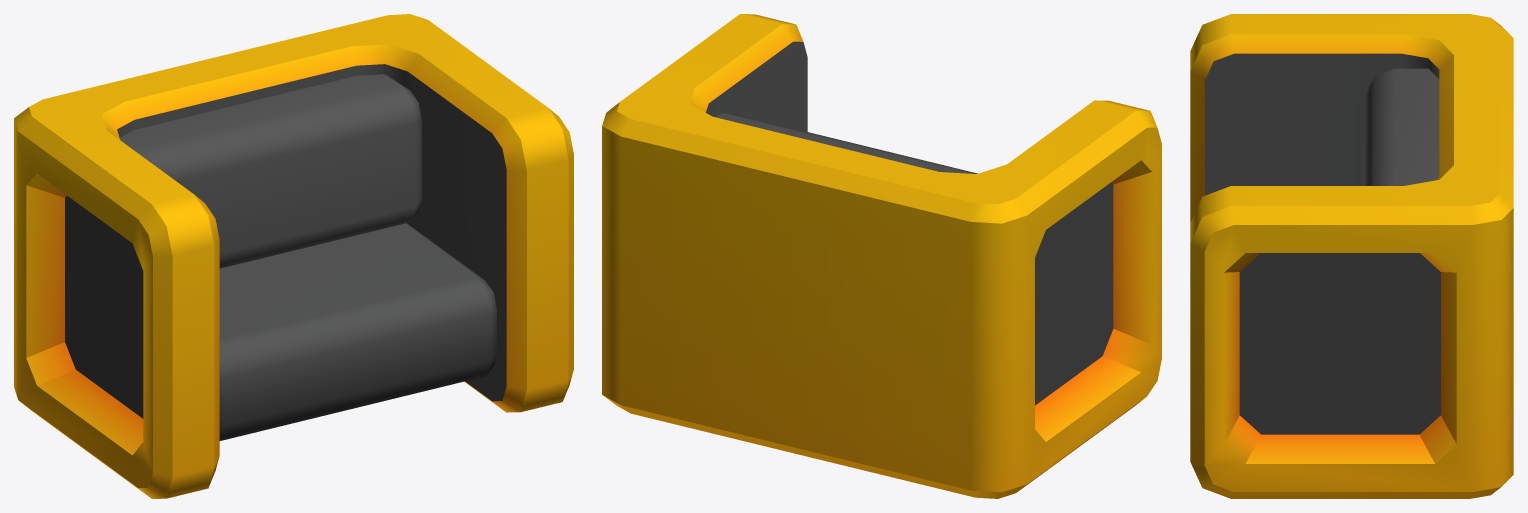
Rendered from Mini_sofa_009.fbx.
3 views of the same model, side by side, from view 1: azimuth 30°, elevation 25°; view 2: azimuth 150°, elevation 25°; view 3: azimuth 270°, elevation 25° (orthographic).
Visible parts, largest first — view 1: Mini_sofa_009; view 2: Mini_sofa_009; view 3: Mini_sofa_009.
Boxes of the visible parts, left/top/right/bottom form: Mini_sofa_009: left=14, top=14, right=573, bottom=498; Mini_sofa_009: left=602, top=14, right=1161, bottom=498; Mini_sofa_009: left=1190, top=14, right=1513, bottom=498.
Bounding box in the file's own units: 128 × 85.46 × 85.46.
